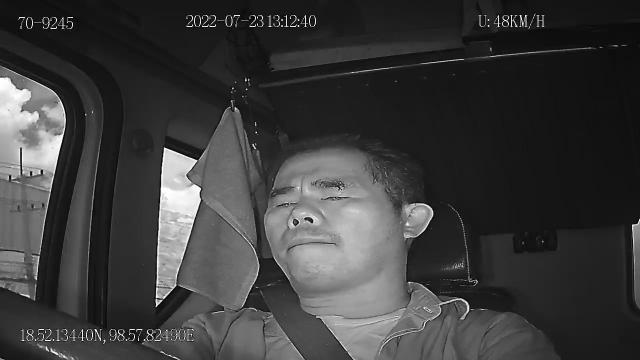SafeDriving: (311, 176, 357, 204), (268, 190, 302, 214)
Seatbelt: (258, 280, 356, 360)
